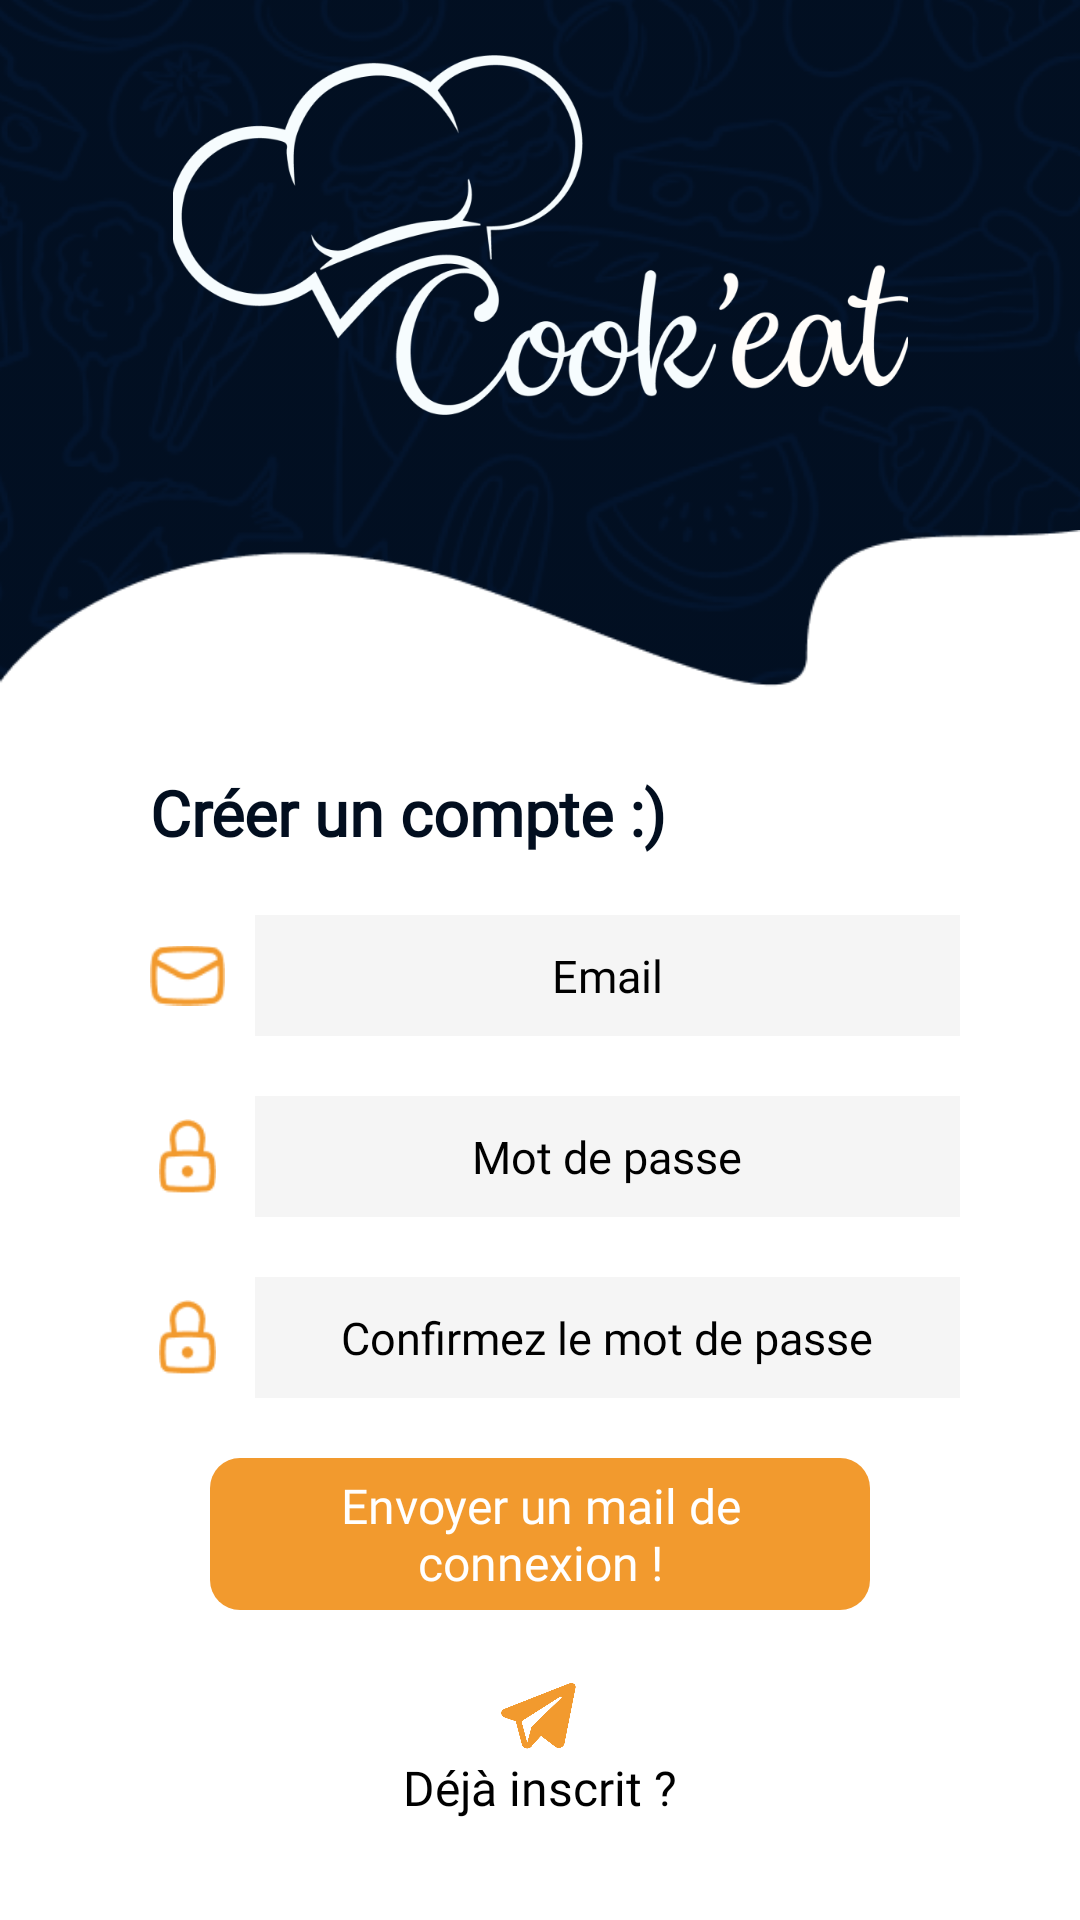

Point at icon controls on the screen. Image size 1080 x 1920, points as point (x, y).
lock: point (187, 1156), point (187, 1337)
